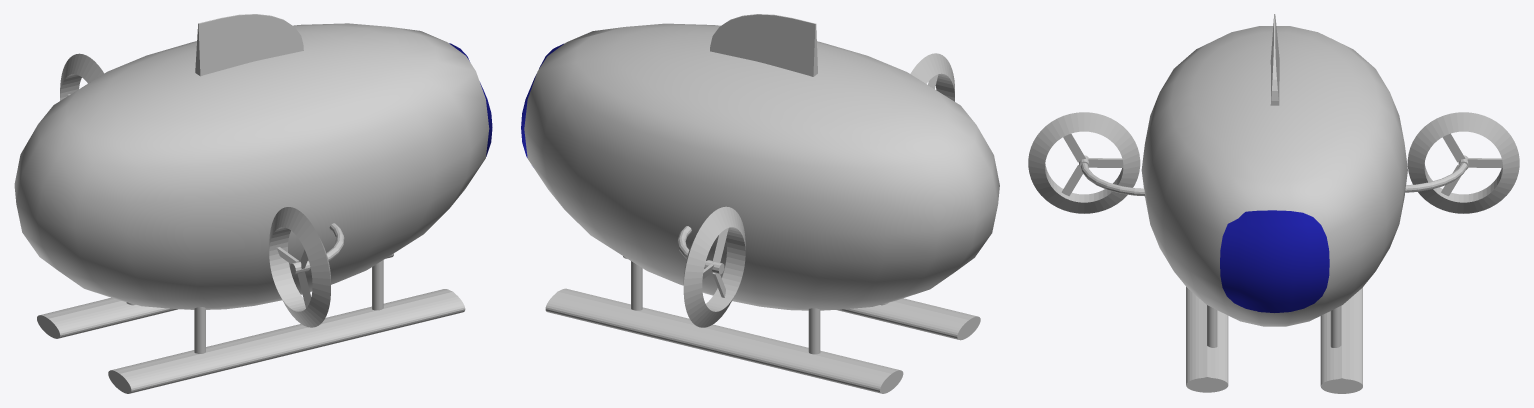
File: submarinMetal.gltf
3 views of the same model, side by side, from view 1: azimuth 30°, elevation 25°; view 2: azimuth 150°, elevation 25°; view 3: azimuth 270°, elevation 25° (orthographic). The views are drawn at different scales.
Parts seen in each view (by area): view 1: submarin; view 2: submarin; view 3: submarin.
Part boxes in pixels (box(x1,y1,x2,y2)): submarin: box(14, 14, 492, 393); submarin: box(521, 14, 999, 393); submarin: box(1028, 14, 1519, 393).
Size of the model in its own units: 6.19 by 4.12 by 6.49.
